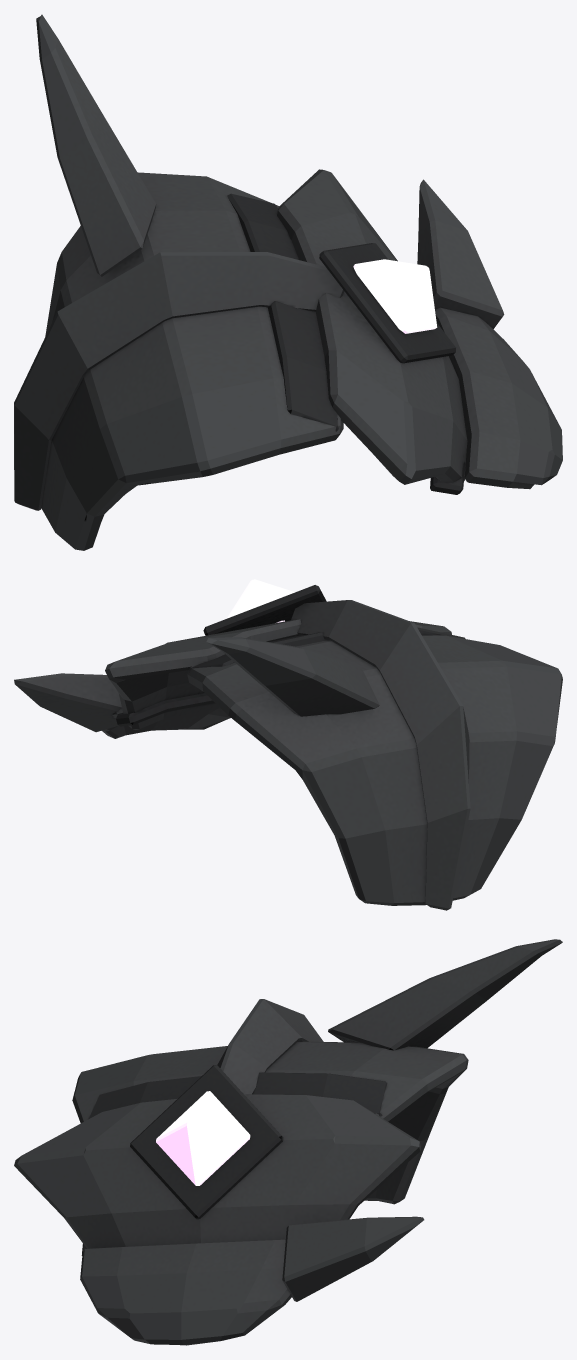
The model's file is armor_pauldron_ebony.glb.
3 views of the same model, one above another, from view 1: azimuth 30°, elevation 25°; view 2: azimuth 150°, elevation 25°; view 3: azimuth 270°, elevation 25° (orthographic). The views are drawn at different scales.
Parts seen in each view (by area): view 1: paul_plates; view 2: paul_plates; view 3: paul_plates.
Boxes of the visible parts, left/top/right/bottom form: paul_plates: left=14, top=14, right=562, bottom=550; paul_plates: left=14, top=579, right=562, bottom=910; paul_plates: left=14, top=939, right=562, bottom=1345.
Bounding box in the file's own units: 0.332 × 0.2534 × 0.3902.
Materials: 3 (3 with a texture image).
